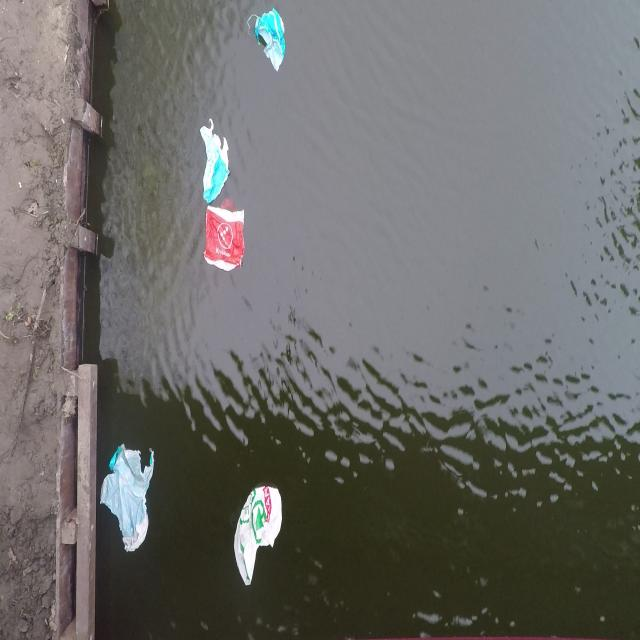Sac plastique: (100, 437, 164, 559), (232, 481, 290, 590), (193, 114, 240, 206), (202, 202, 251, 276), (247, 2, 294, 70)
